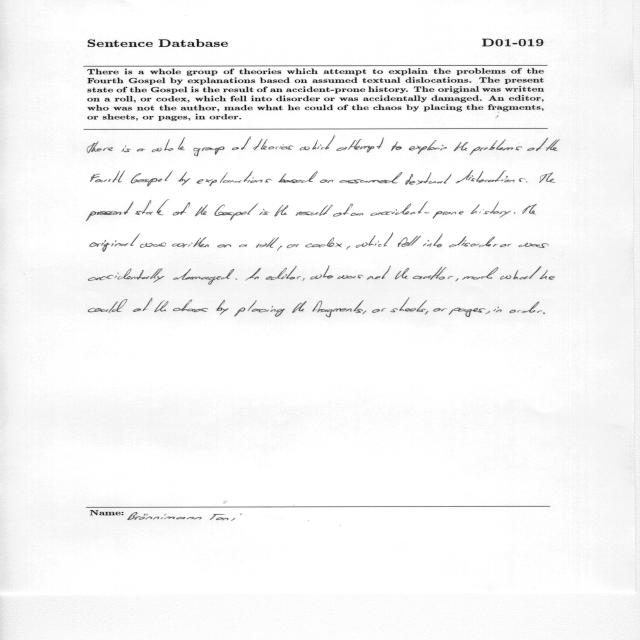word: (371, 201, 464, 219), (88, 268, 165, 283), (196, 171, 272, 186), (173, 269, 234, 285), (87, 201, 134, 221), (90, 234, 140, 252), (456, 170, 525, 183), (235, 300, 286, 317), (313, 300, 364, 317), (470, 140, 522, 155), (215, 203, 259, 220), (336, 138, 384, 153), (131, 170, 173, 187), (339, 172, 403, 183), (405, 172, 452, 185), (471, 202, 511, 217), (500, 266, 541, 280), (356, 233, 393, 248), (390, 298, 427, 313), (408, 140, 447, 154), (449, 237, 498, 248), (300, 136, 335, 151), (413, 267, 453, 280), (89, 299, 128, 312), (152, 137, 185, 152), (136, 200, 169, 215), (266, 266, 301, 280), (462, 267, 499, 280), (279, 171, 318, 183), (173, 300, 208, 313), (253, 139, 294, 150), (91, 171, 126, 183), (296, 205, 333, 216), (172, 237, 209, 247), (305, 237, 342, 247), (510, 302, 543, 313), (449, 308, 486, 317), (87, 141, 113, 153), (367, 266, 391, 279), (194, 147, 225, 157), (311, 266, 334, 279), (423, 234, 443, 248), (398, 235, 421, 247), (527, 138, 548, 151), (232, 136, 251, 150), (133, 298, 152, 312), (333, 204, 353, 217), (256, 237, 279, 248), (173, 202, 190, 216), (245, 268, 261, 281), (178, 172, 191, 186), (154, 301, 169, 313), (217, 300, 229, 315), (292, 301, 307, 313), (539, 172, 555, 183), (546, 139, 560, 151), (140, 242, 166, 248), (275, 205, 289, 216), (395, 268, 409, 279), (522, 204, 537, 214), (519, 243, 549, 248), (540, 270, 555, 280), (195, 205, 208, 216), (454, 142, 468, 151), (391, 141, 402, 151), (338, 275, 364, 279), (121, 145, 131, 152), (372, 308, 386, 313), (259, 209, 269, 215), (217, 244, 231, 248), (433, 308, 447, 312), (493, 307, 502, 313), (287, 244, 299, 248), (320, 180, 333, 183), (351, 213, 364, 216), (500, 244, 512, 247), (277, 246, 282, 251), (137, 149, 145, 152), (239, 244, 247, 247), (363, 311, 367, 315), (485, 311, 490, 314), (347, 246, 350, 250), (456, 278, 459, 282), (425, 311, 428, 315), (302, 278, 305, 281), (514, 212, 516, 214), (543, 312, 545, 314), (526, 181, 527, 183), (235, 279, 237, 280)
